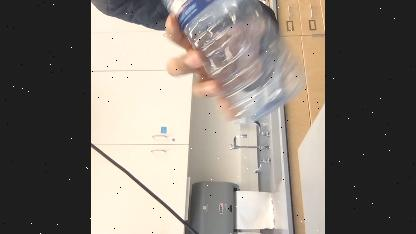Plastic Bottle: (146, 0, 306, 125)
